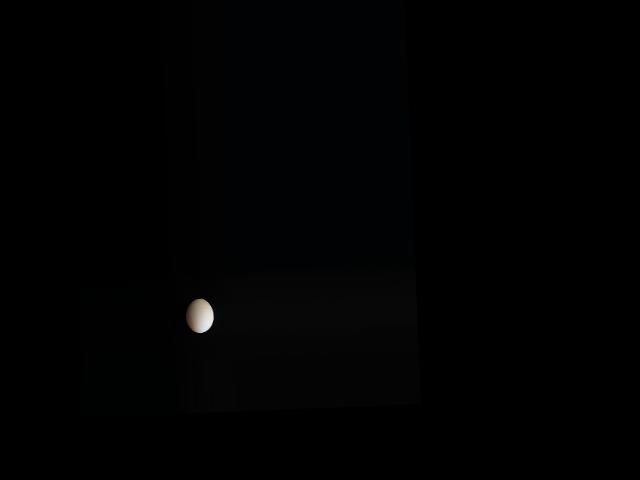egg: (185, 297, 214, 332)
